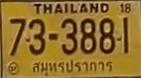1: (123, 17, 128, 53), (124, 17, 128, 53)
3: (27, 18, 44, 54), (60, 18, 76, 54)
7: (9, 17, 25, 55)
8: (99, 17, 114, 53), (80, 17, 95, 53)
SPK: (29, 58, 115, 74)
